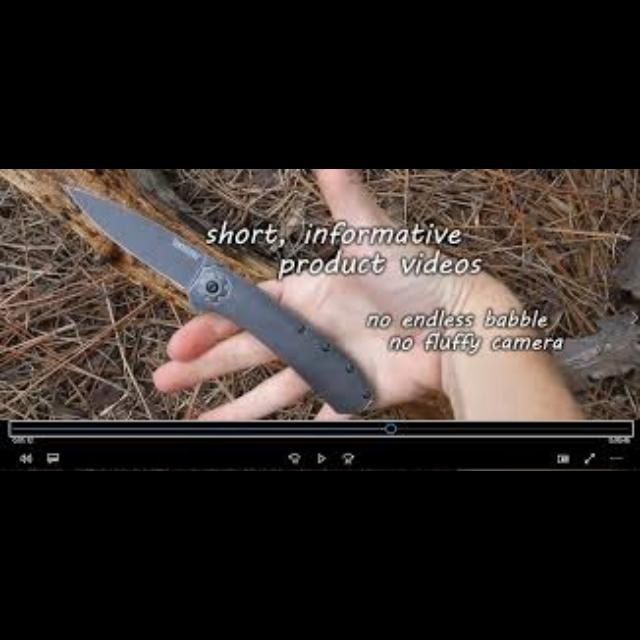Knife: (59, 183, 375, 414)
